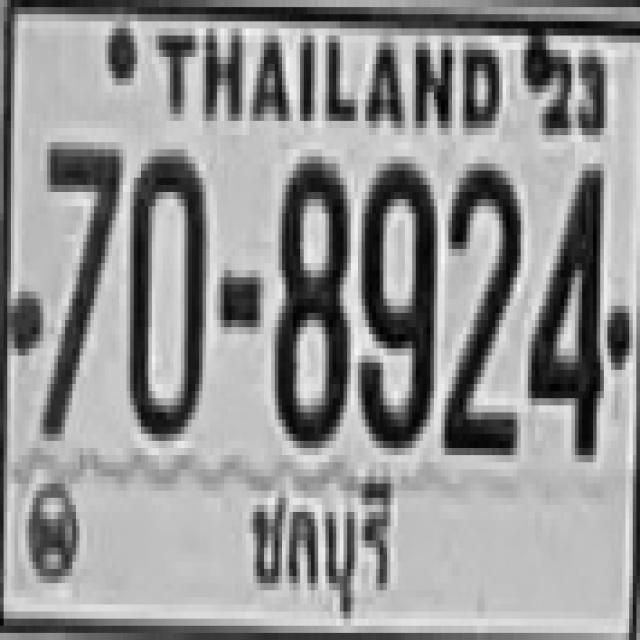0: (126, 142, 202, 434)
2: (441, 156, 517, 448)
4: (524, 160, 600, 452)
7: (44, 135, 120, 434)
8: (271, 149, 344, 441)
9: (358, 156, 430, 441)
Chonburi: (245, 470, 391, 614)
